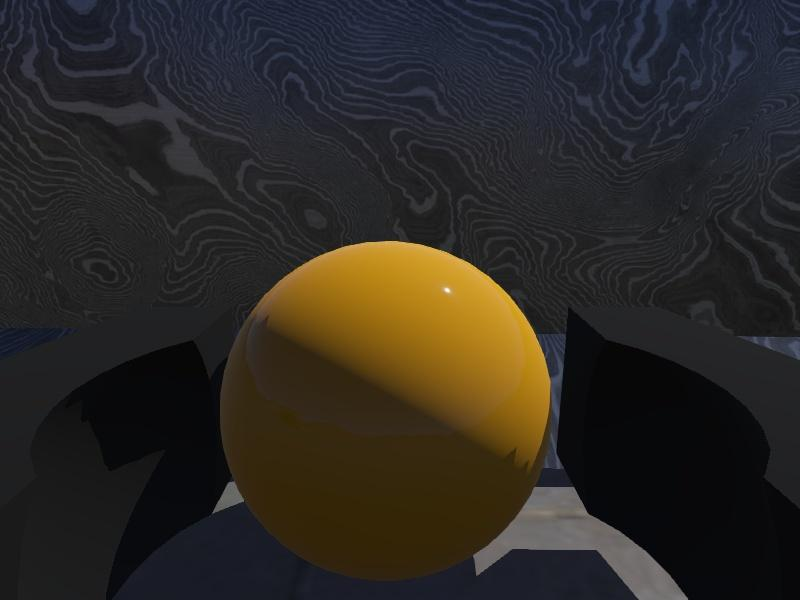orange ball: (218, 240, 553, 582)
